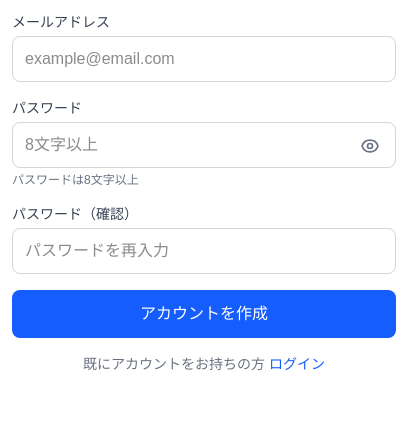
Test case: SignupForm › should show error when password is less than 8 characters
The width and height of the screenshot is (415, 448).
Type "test@example.com" into the field labelled "メールアドレス" at (204, 59), box [12,36,396,82]
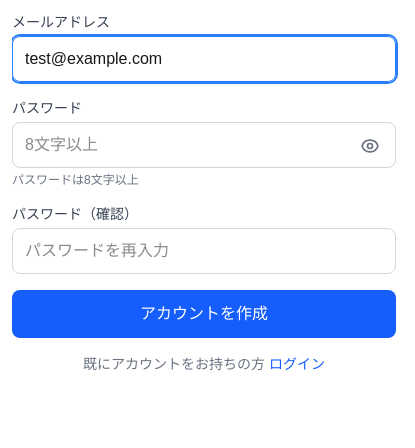
Type "short" into the password field labelled "パスワード" at (204, 145), box [12,122,396,168]
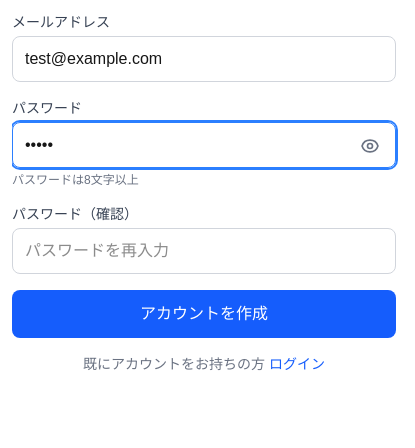
Type "short" into the password field labelled "パスワード（確認）" at (204, 251), box [12,228,396,274]
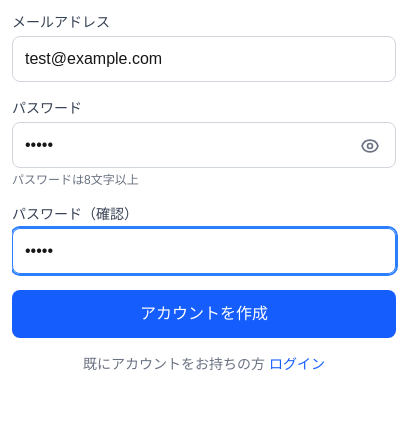
Click the button "アカウントを作成" at (204, 314), box [12,290,396,338]
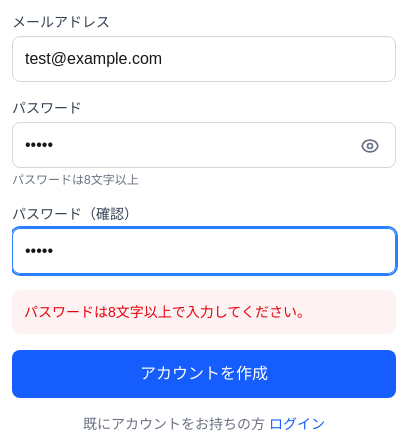
Expected: the text "パスワードは8文字以上で入力してください。" is shown, [12,290,396,334]
